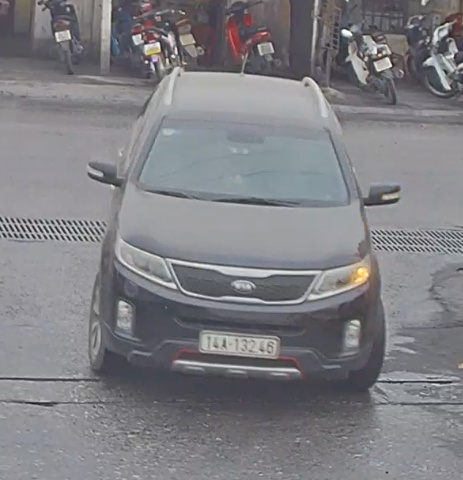vehicle plate: (195, 320, 285, 365)
